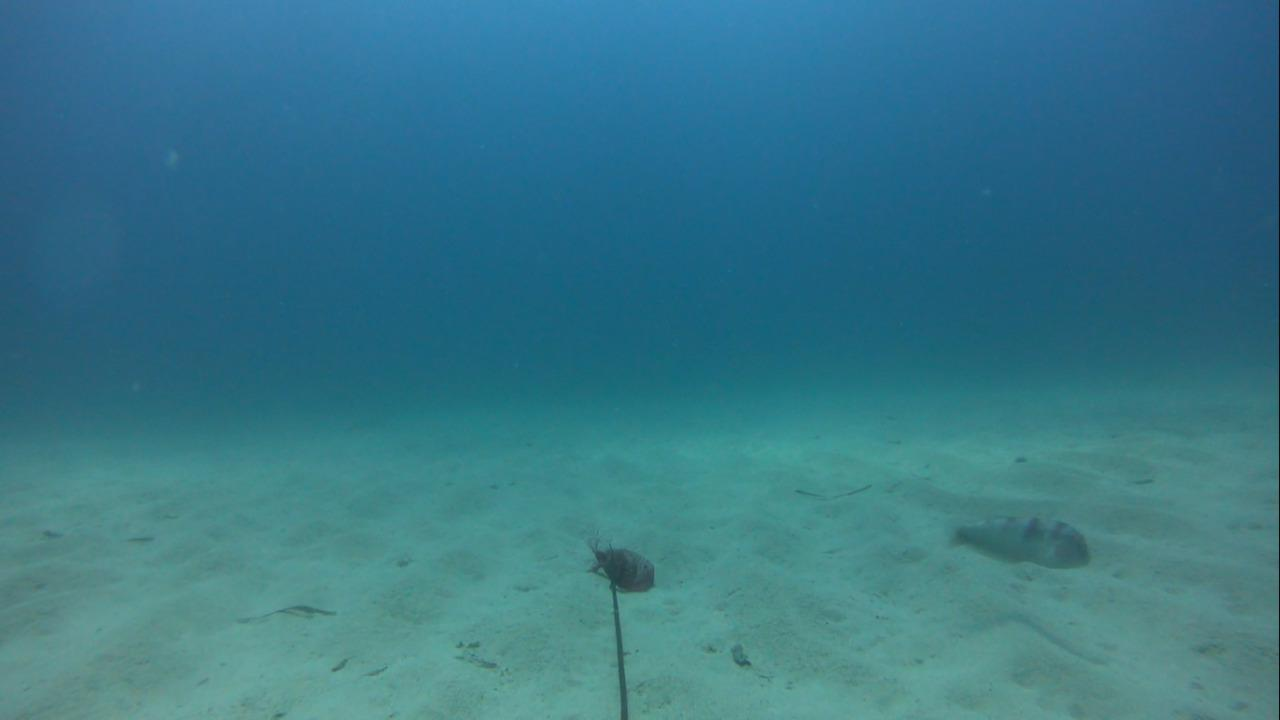raor: (941, 511, 1094, 569)
